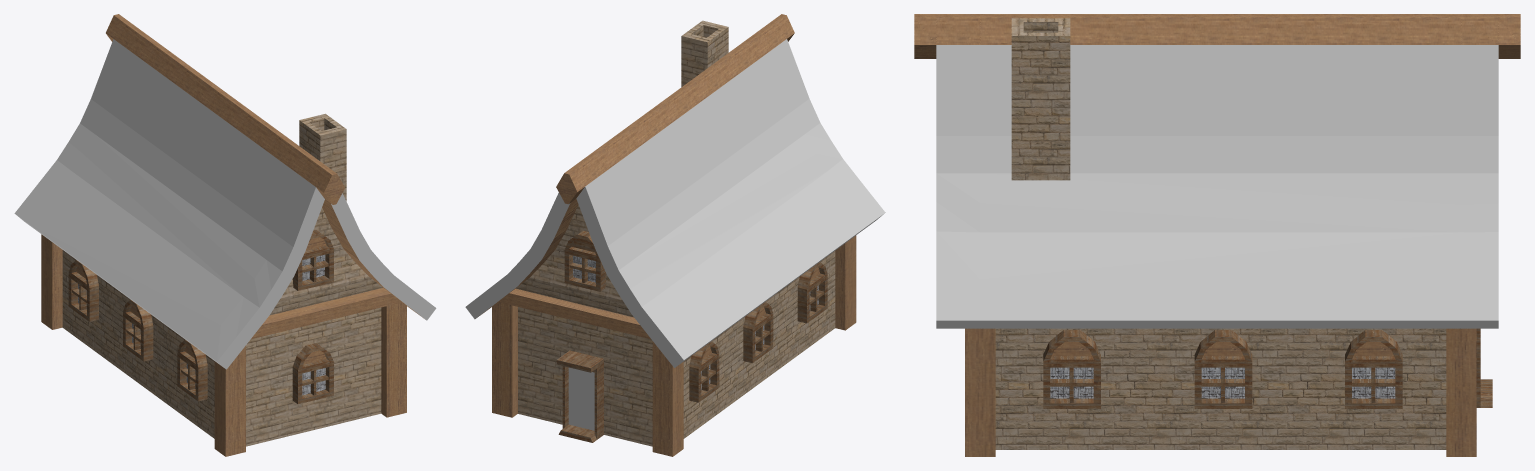
File: privatehouse.fbx
3 renders of one model, left to right at view 1: azimuth 30°, elevation 25°; view 2: azimuth 150°, elevation 25°; view 3: azimuth 270°, elevation 25°, orthographic. The views are drawn at different scales.
Visible parts, largest first — view 1: privateHouse; view 2: privateHouse; view 3: privateHouse.
Boxes of the visible parts, x1,y1,x2,y2 form: privateHouse: (14, 14, 436, 456); privateHouse: (465, 14, 885, 456); privateHouse: (914, 14, 1520, 456).
Size of the model in its own units: 35.59 by 43.68 by 61.33.
